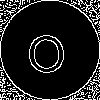O: (25, 25, 67, 74)
